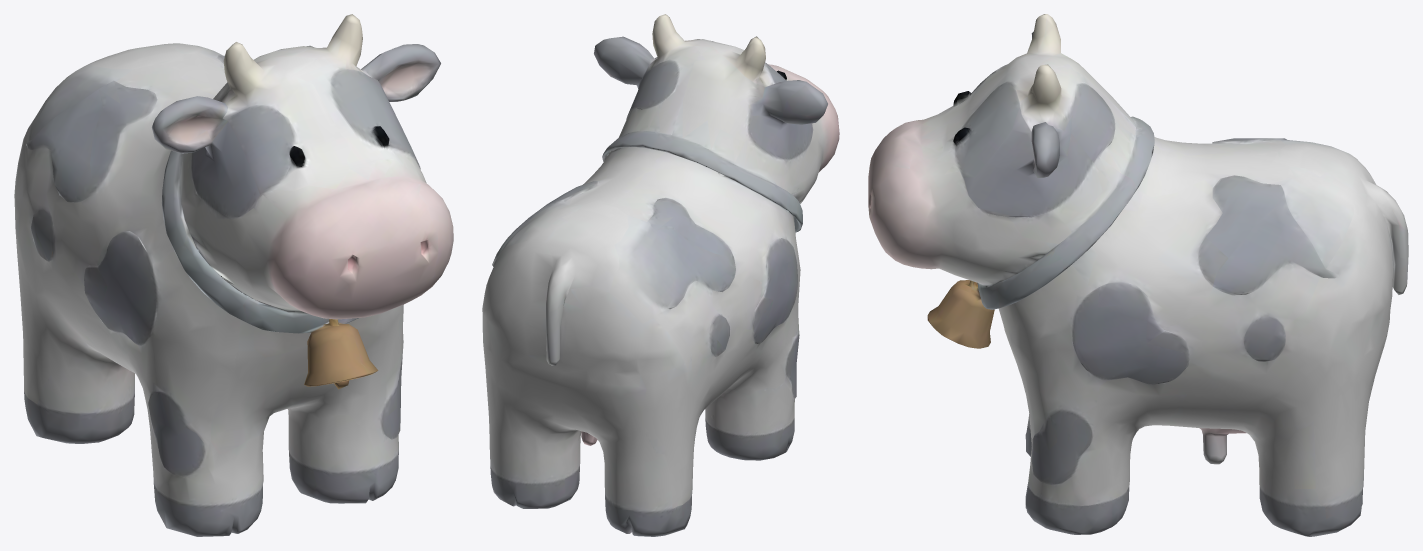
Rendered from farm_cow.glb.
The picture shows the model from 3 angles, left to right: view 1: azimuth 30°, elevation 25°; view 2: azimuth 150°, elevation 25°; view 3: azimuth 270°, elevation 25°; orthographic projection. The views are drawn at different scales.
Visible parts, largest first — view 1: tripo_node_3a3f7535-74ee-4dc9-ad87-dd39935c32f8; view 2: tripo_node_3a3f7535-74ee-4dc9-ad87-dd39935c32f8; view 3: tripo_node_3a3f7535-74ee-4dc9-ad87-dd39935c32f8.
Part boxes in pixels (box(x1,y1,x2,y2)): tripo_node_3a3f7535-74ee-4dc9-ad87-dd39935c32f8: box(14, 14, 453, 536); tripo_node_3a3f7535-74ee-4dc9-ad87-dd39935c32f8: box(482, 14, 839, 536); tripo_node_3a3f7535-74ee-4dc9-ad87-dd39935c32f8: box(868, 14, 1408, 536).
Size of the model in its own units: 0.7865 by 1.29 by 1.4.
Materials: 1 (1 with a texture image).
